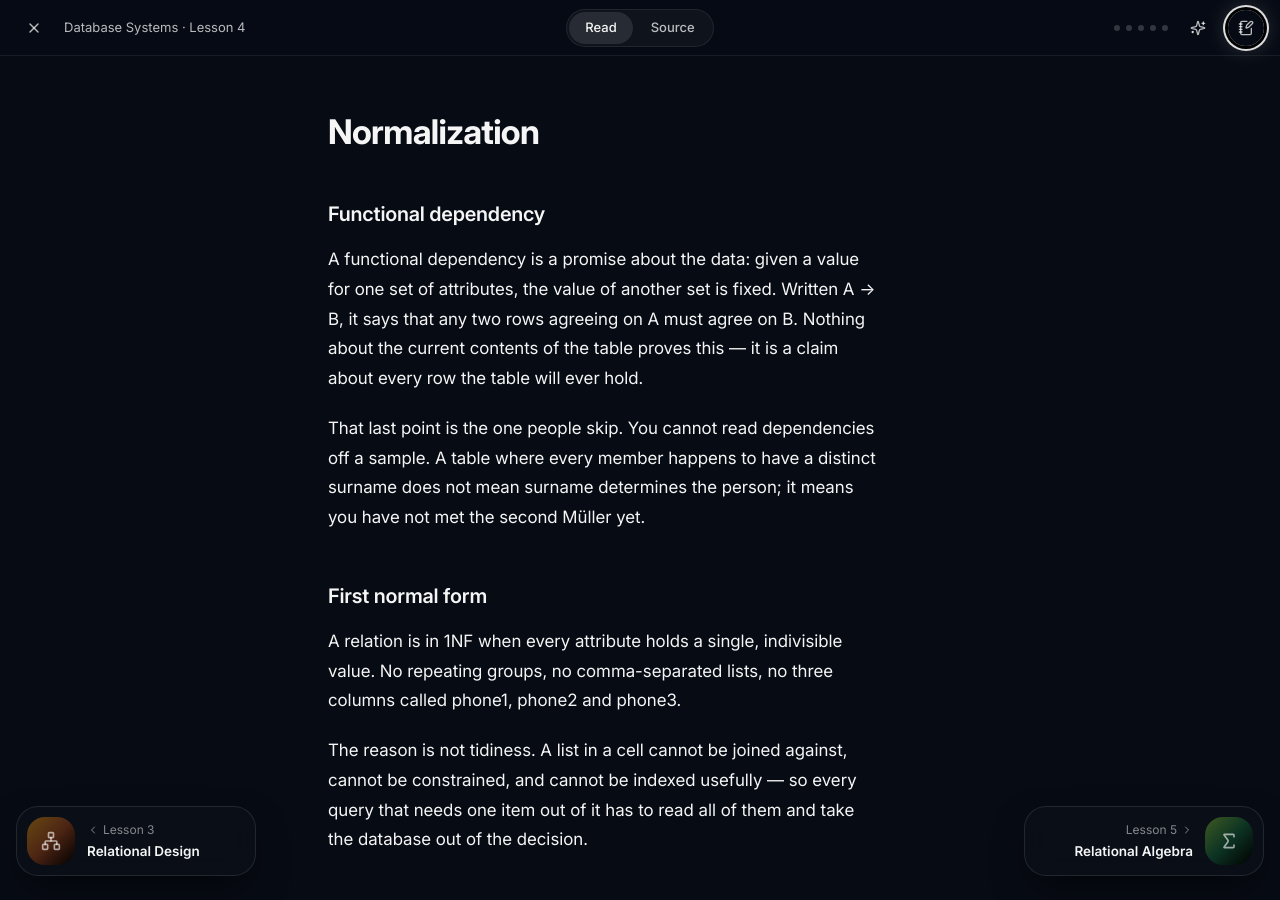
Test: the rail comes and goes with the header buttons › goes away entirely on Escape
The image size is (1280, 900).
Check: the header is shown, box [0,0,1279,56]
Click the button named "Notes".
click(1246, 28)  # box [1228,10,1264,46]
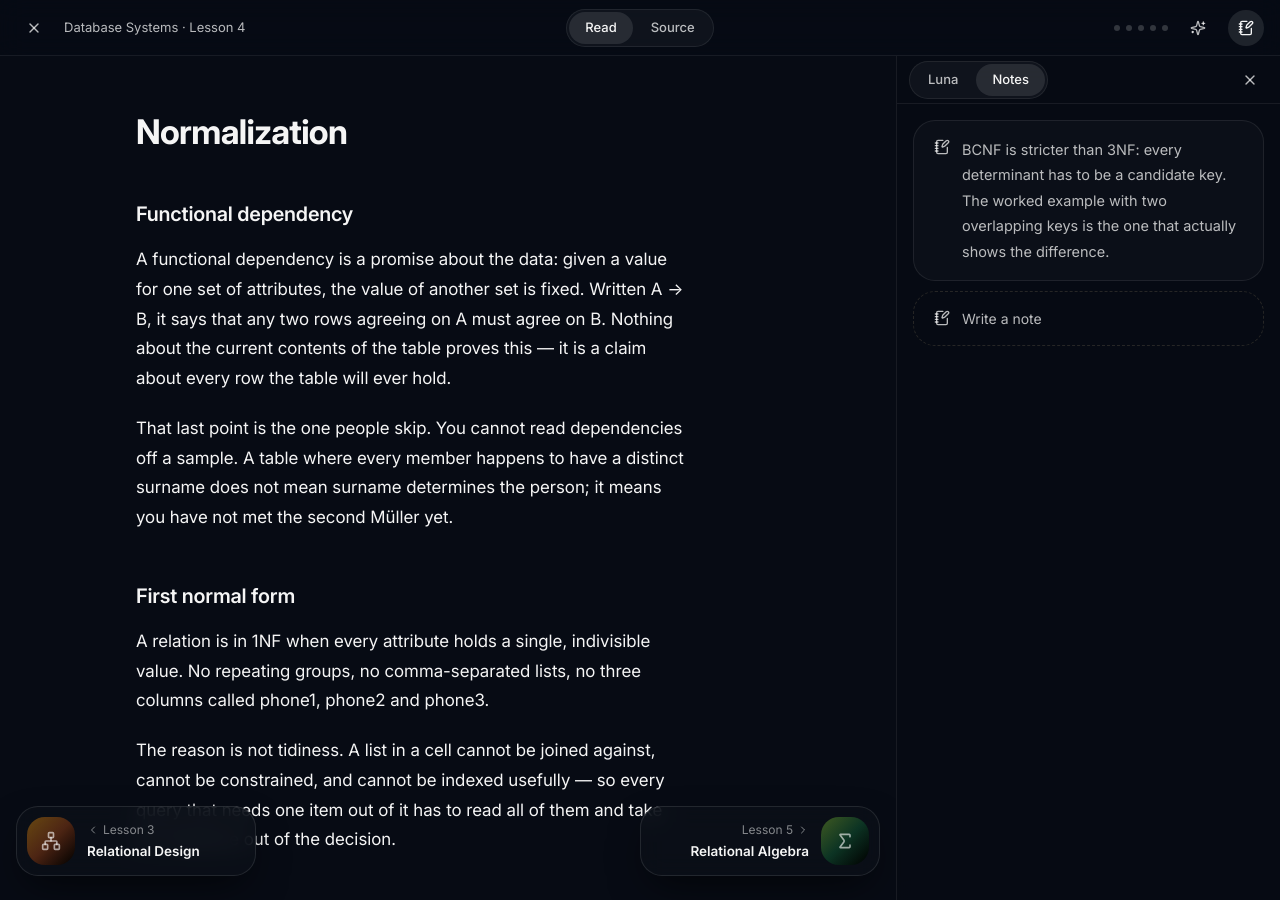
Press Escape
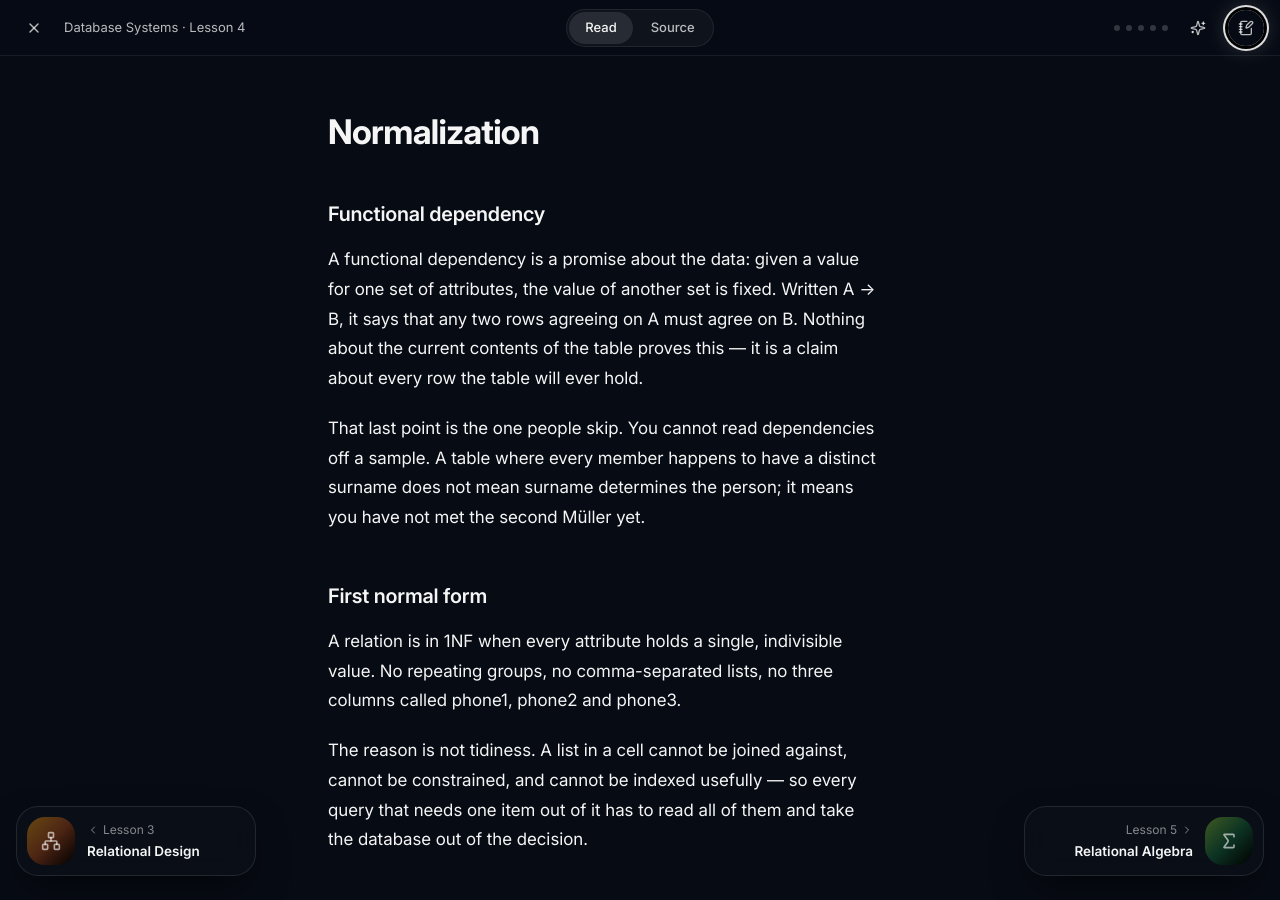
Check: the element "Reader companions" is gone
